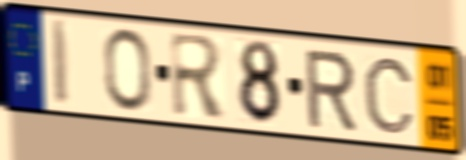8: (235, 37, 284, 129)
C: (361, 55, 418, 137)
I: (49, 17, 71, 110)
O: (101, 25, 154, 115)
R: (167, 29, 230, 121), (302, 48, 359, 133)
